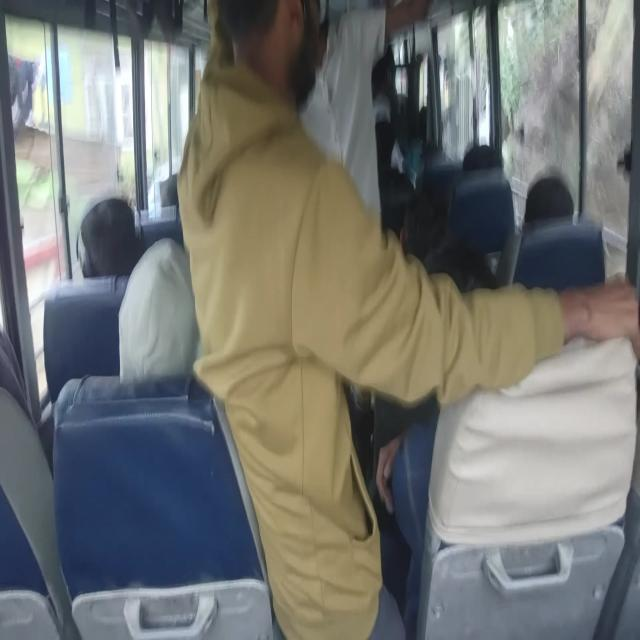person: (287, 0, 392, 163), (217, 0, 333, 145), (120, 251, 220, 386), (397, 160, 455, 242), (82, 201, 132, 282), (524, 154, 572, 238), (432, 250, 488, 321), (0, 352, 40, 443), (466, 139, 516, 198), (414, 108, 458, 153), (160, 164, 187, 219), (376, 50, 396, 111), (376, 128, 407, 159)
